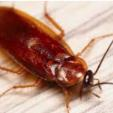cockroach: (0, 5, 95, 97)
